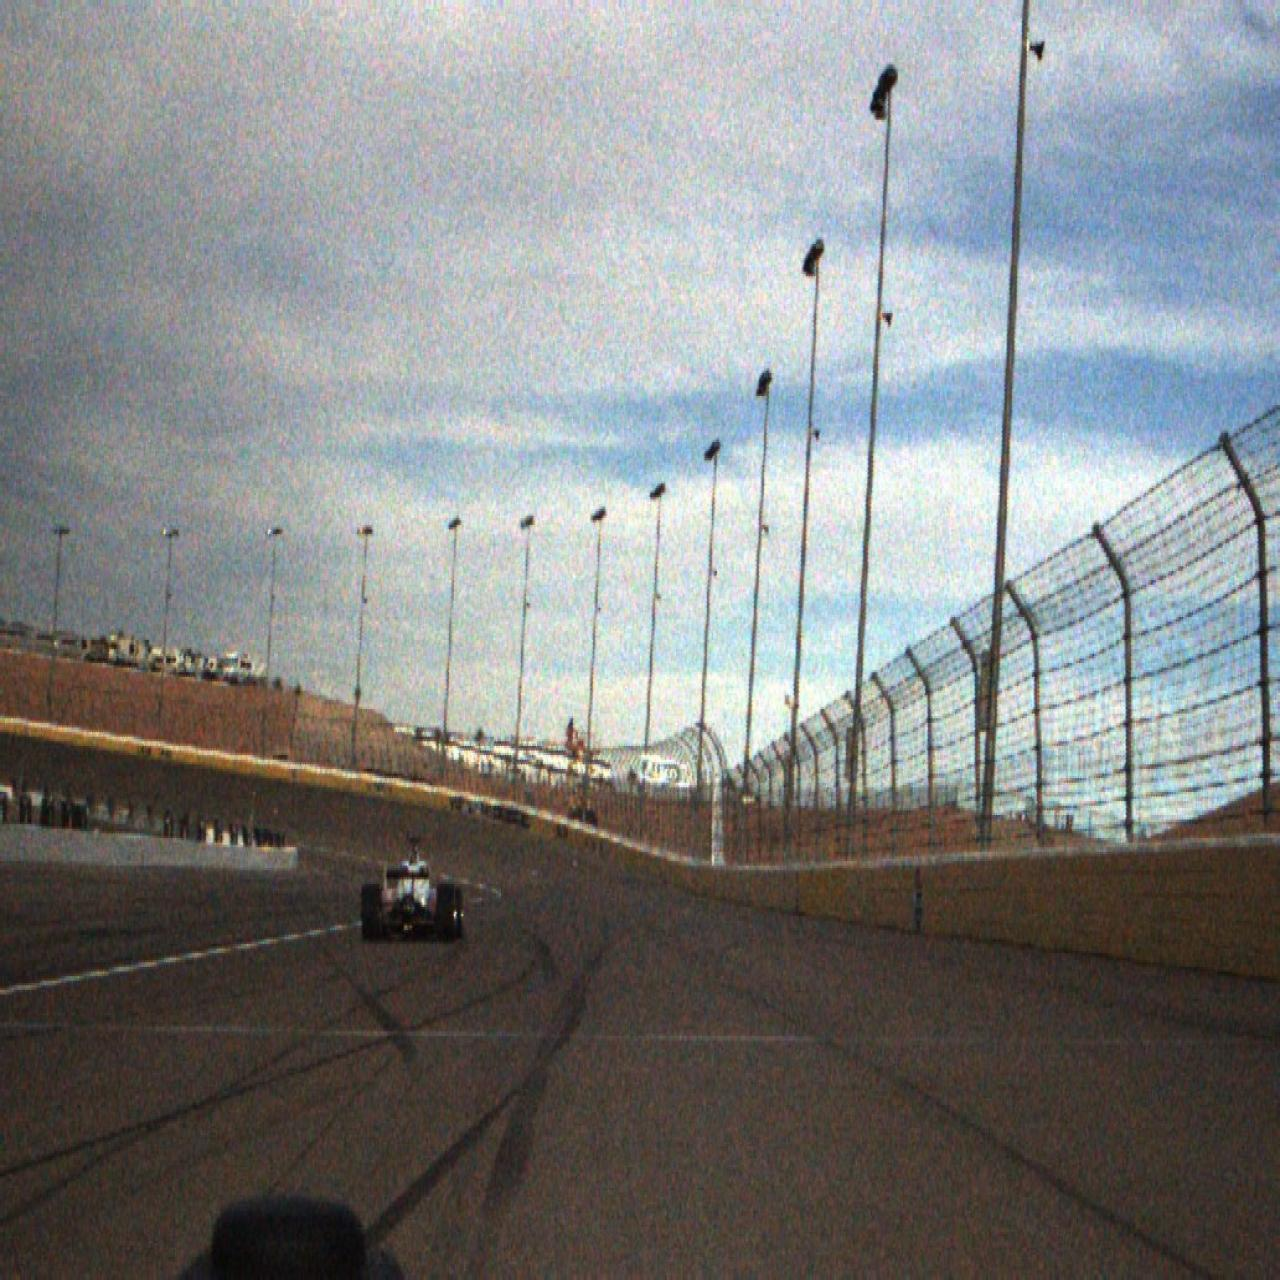AV: (360, 835, 464, 942)
Wheel: (362, 884, 382, 941), (437, 883, 456, 942), (453, 888, 464, 938)
